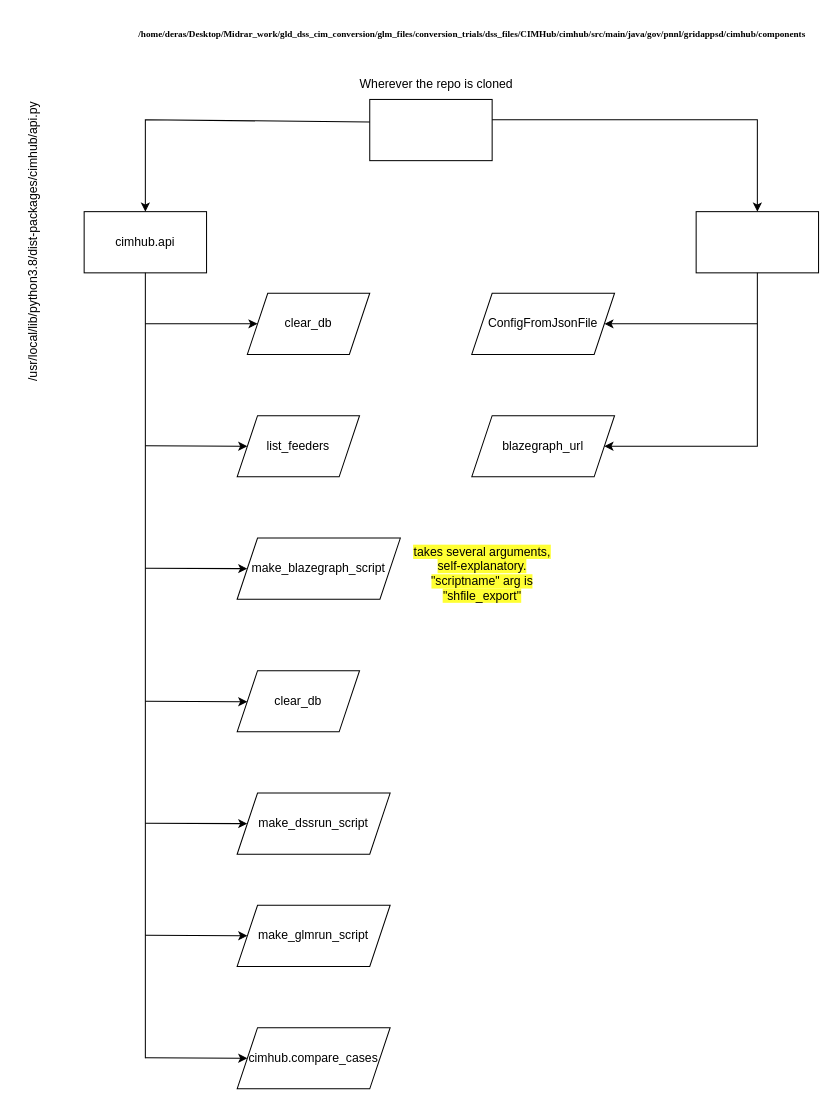
The diagram is 836 pixels wide and 1107 high, and some of its shapes have lost their labels. The box of each missing label's shape, as (x1, y1, x2, y2) in pixels:
cimhub: (369, 98, 492, 161)
cimhub.CIMHubConfig: (695, 211, 819, 273)
